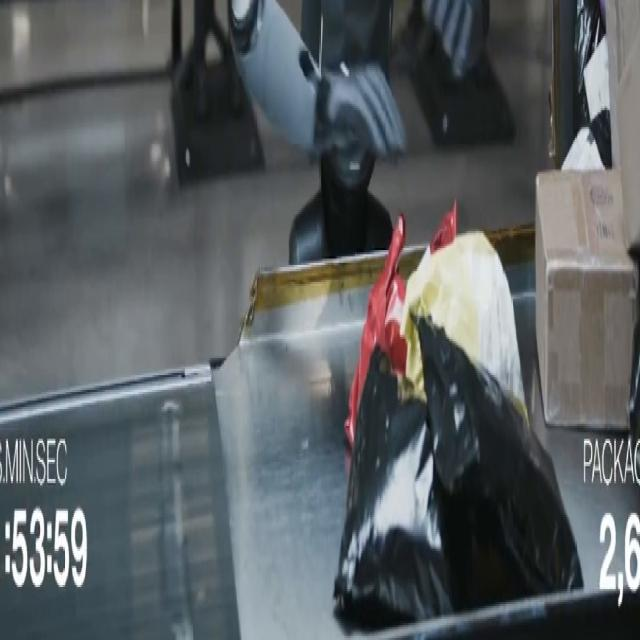package: (416, 318, 582, 606), (335, 346, 452, 627), (536, 170, 636, 428), (401, 234, 526, 415), (345, 215, 406, 449), (345, 215, 405, 449), (607, 0, 639, 252), (573, 0, 604, 131), (562, 111, 611, 171), (585, 37, 610, 120), (629, 320, 639, 476)
